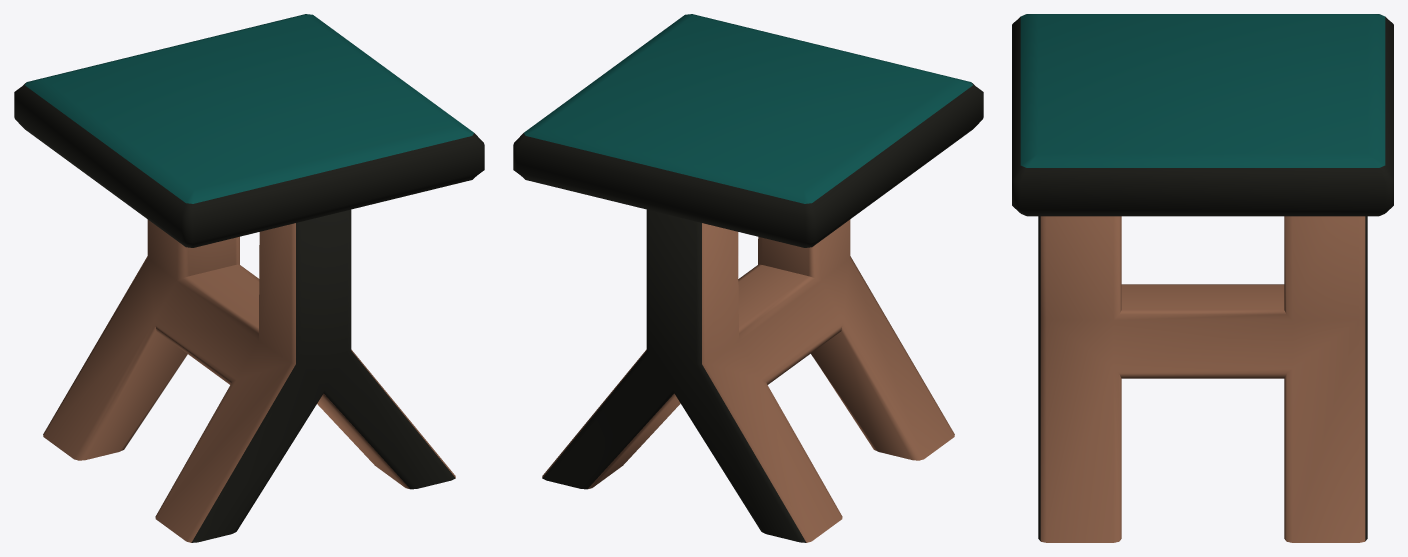
Rendered from OT_138_139_green_square_stool.glb.
3 views of the same model, side by side, from view 1: azimuth 30°, elevation 25°; view 2: azimuth 150°, elevation 25°; view 3: azimuth 270°, elevation 25° (orthographic). The views are drawn at different scales.
Visible parts, largest first — view 1: stool; view 2: stool; view 3: stool.
Part boxes in pixels (box(x1,y1,x2,y2)): stool: box(14, 14, 484, 542); stool: box(513, 14, 983, 542); stool: box(1012, 14, 1393, 542).
Size of the model in its own units: 0.6706 by 0.75 by 0.6706.
